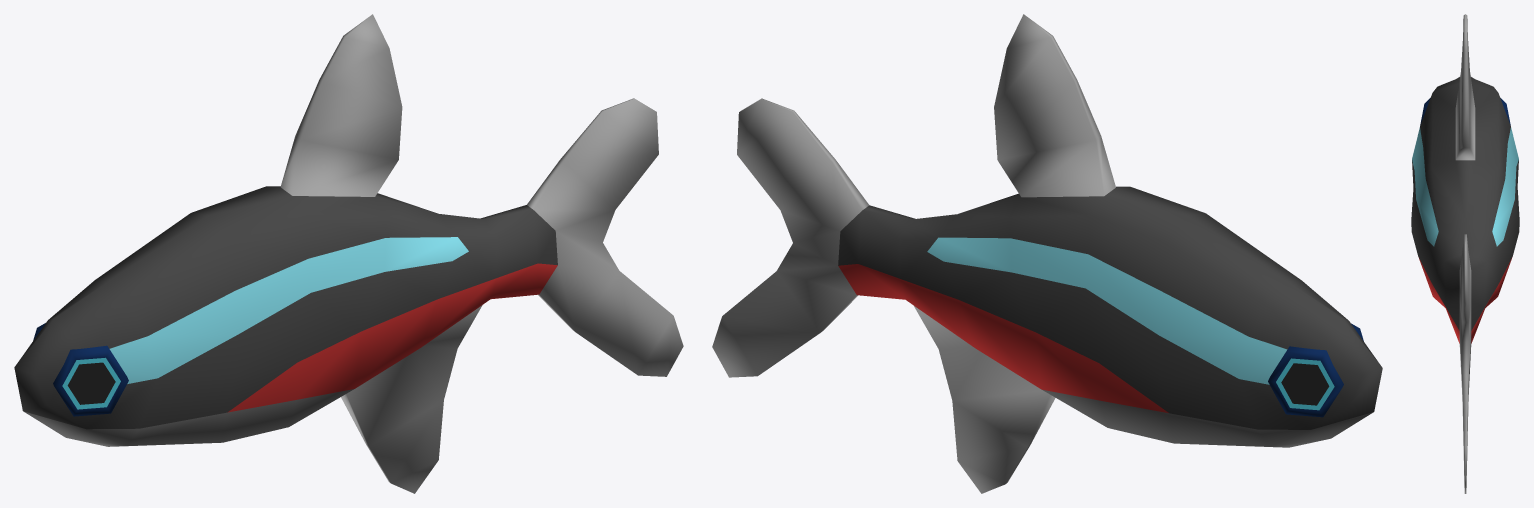
File: Fish_009.fbx
The picture shows the model from 3 angles, left to right: view 1: azimuth 30°, elevation 25°; view 2: azimuth 150°, elevation 25°; view 3: azimuth 270°, elevation 25°; orthographic projection. The views are drawn at different scales.
Parts seen in each view (by area): view 1: Fish_009; view 2: Fish_009; view 3: Fish_009.
Part boxes in pixels (box(x1,y1,x2,y2)): Fish_009: box(14, 14, 683, 493); Fish_009: box(712, 14, 1382, 493); Fish_009: box(1411, 14, 1519, 493).
Bounding box in the file's own units: 42.97 × 7.24 × 30.03.
Materials: 1 (1 with a texture image).
